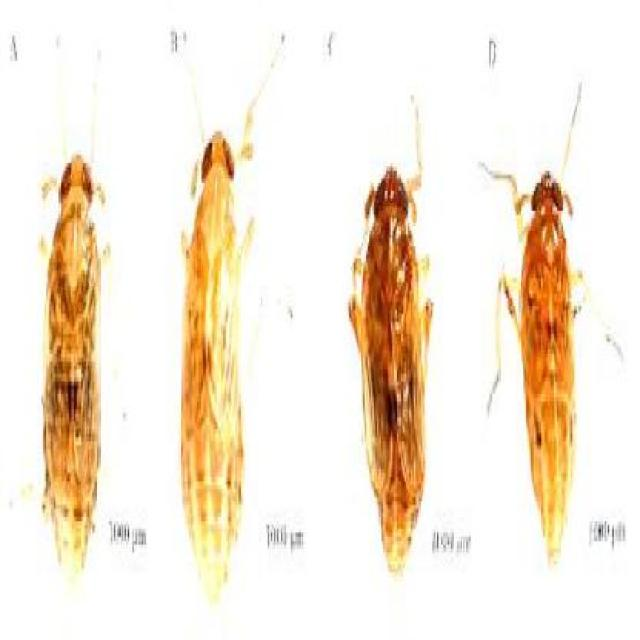brown-planthopper: (178, 124, 252, 599), (354, 167, 428, 575), (41, 150, 107, 568), (518, 157, 578, 565)
